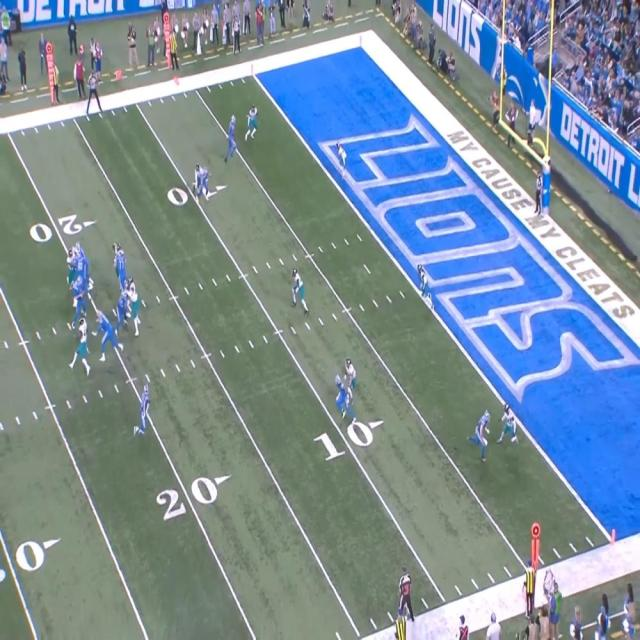db: (500, 406, 520, 444), (138, 391, 151, 430), (419, 263, 433, 297), (248, 104, 260, 142), (337, 142, 346, 180), (193, 164, 200, 194)
lb: (291, 269, 302, 306), (345, 360, 358, 390)
qb: (78, 277, 85, 319)
skill: (474, 410, 491, 460), (333, 374, 348, 414), (199, 165, 210, 200), (229, 114, 236, 162)
